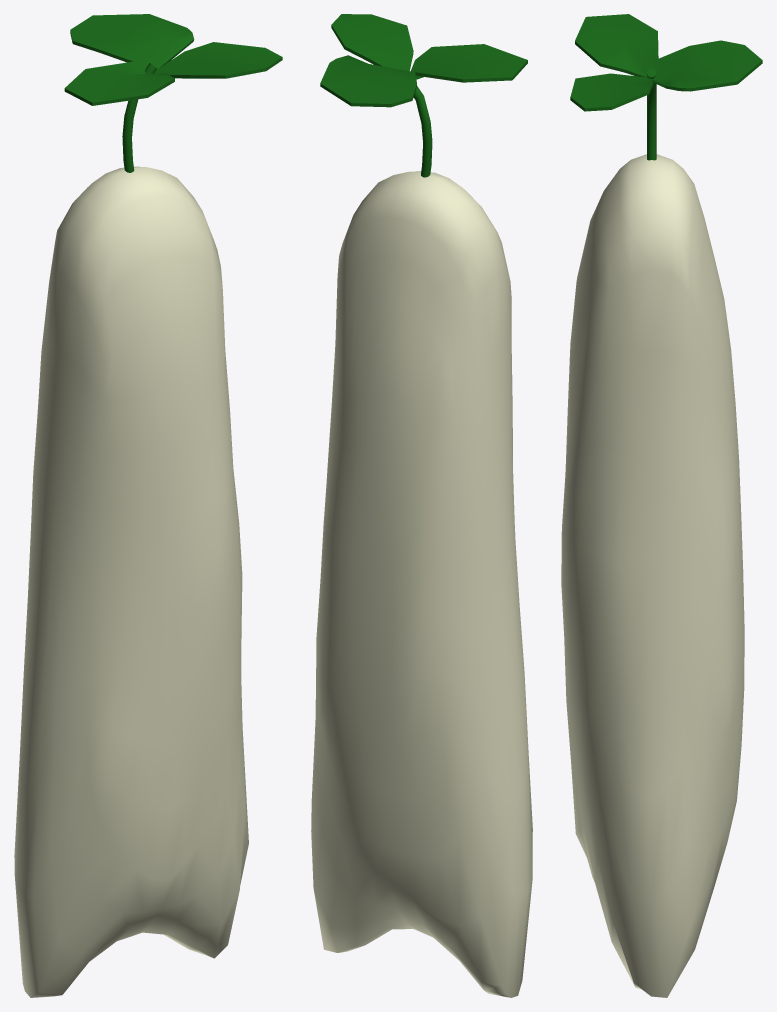
The model's file is WildGinseng.fbx.
3 renders of one model, left to right at view 1: azimuth 30°, elevation 25°; view 2: azimuth 150°, elevation 25°; view 3: azimuth 270°, elevation 25°, orthographic.
Parts seen in each view (by area): view 1: WildGinseng; view 2: WildGinseng; view 3: WildGinseng.
Boxes of the visible parts, x1,y1,x2,y2 form: WildGinseng: [14, 14, 282, 997]; WildGinseng: [311, 14, 532, 997]; WildGinseng: [561, 14, 762, 997].
Size of the model in its own units: 0.6122 by 2.4 by 0.4825.
